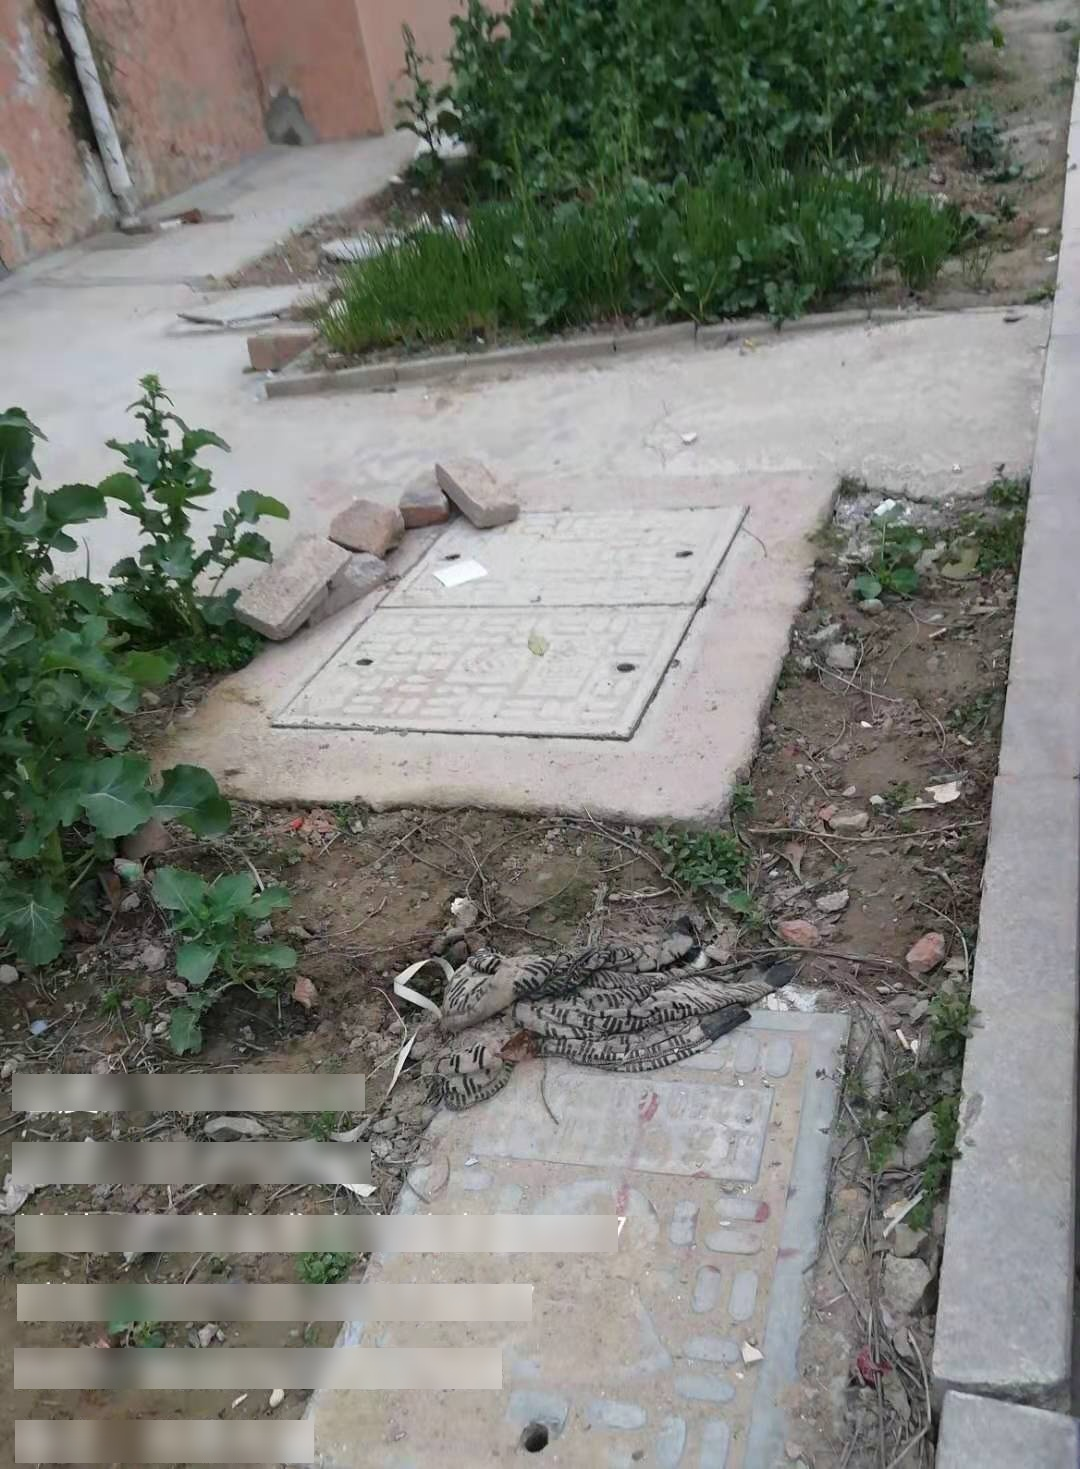good: (278, 1000, 855, 1469), (265, 503, 748, 745)
